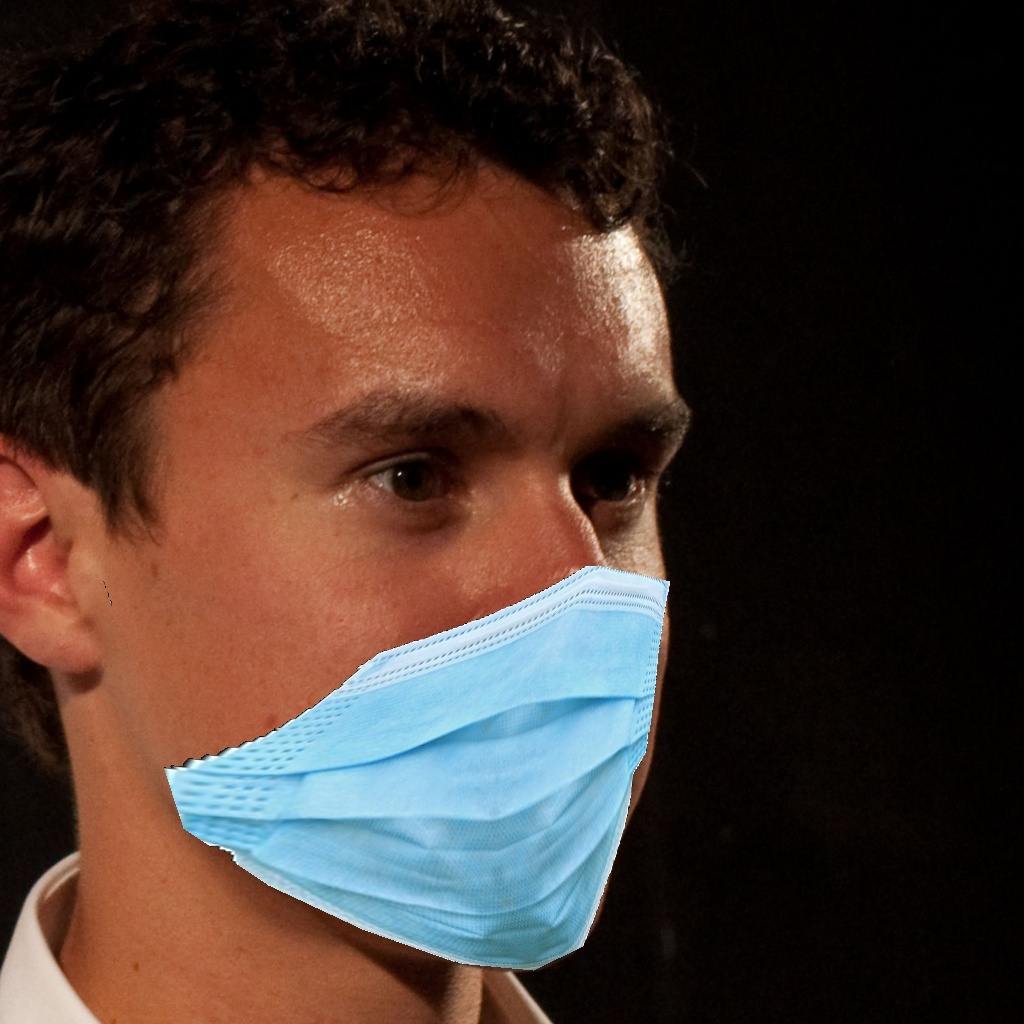with_mask: (232, 361, 691, 974)
